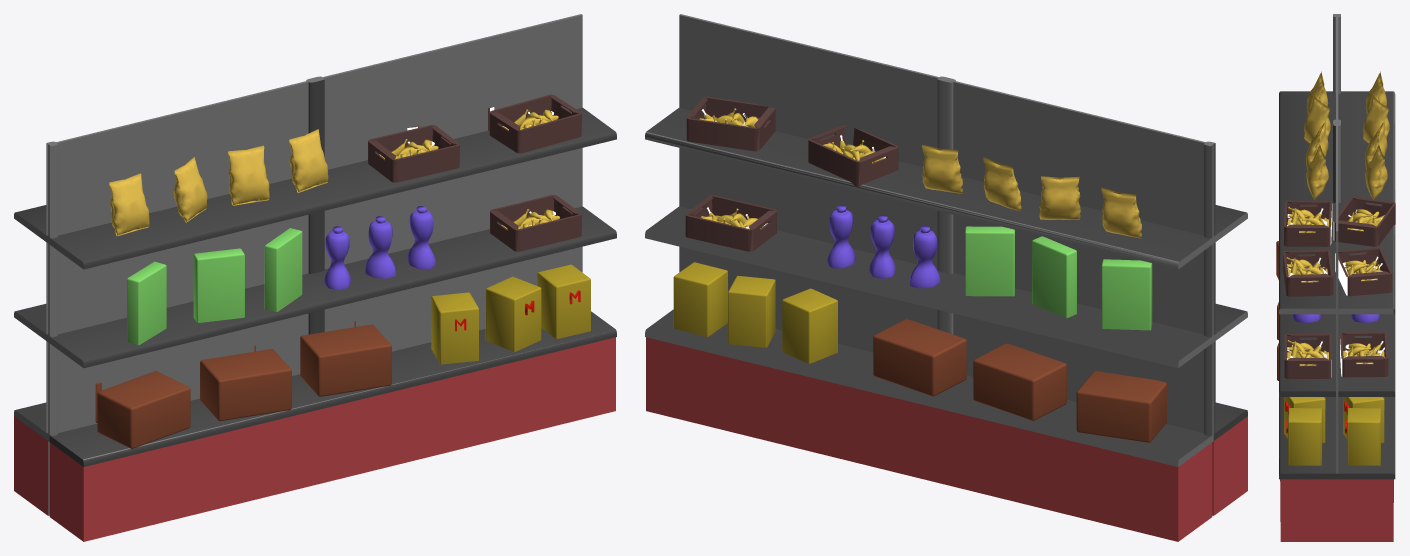
The model's file is Shelter_Full(Textured+color).glb.
3 renders of one model, left to right at view 1: azimuth 30°, elevation 25°; view 2: azimuth 150°, elevation 25°; view 3: azimuth 270°, elevation 25°, orthographic. The views are drawn at different scales.
Parts seen in each view (by area): view 1: Stagger_Large.001_M_SUpermarket_0; view 2: Stagger_Large.001_M_SUpermarket_0; view 3: Stagger_Large.001_M_SUpermarket_0.
Boxes of the visible parts, x1,y1,x2,y2 form: Stagger_Large.001_M_SUpermarket_0: (14,14,616,541); Stagger_Large.001_M_SUpermarket_0: (645,14,1247,541); Stagger_Large.001_M_SUpermarket_0: (1276,14,1395,541).
Bounding box in the file's own units: 8.81 × 5.87 × 2.05.
